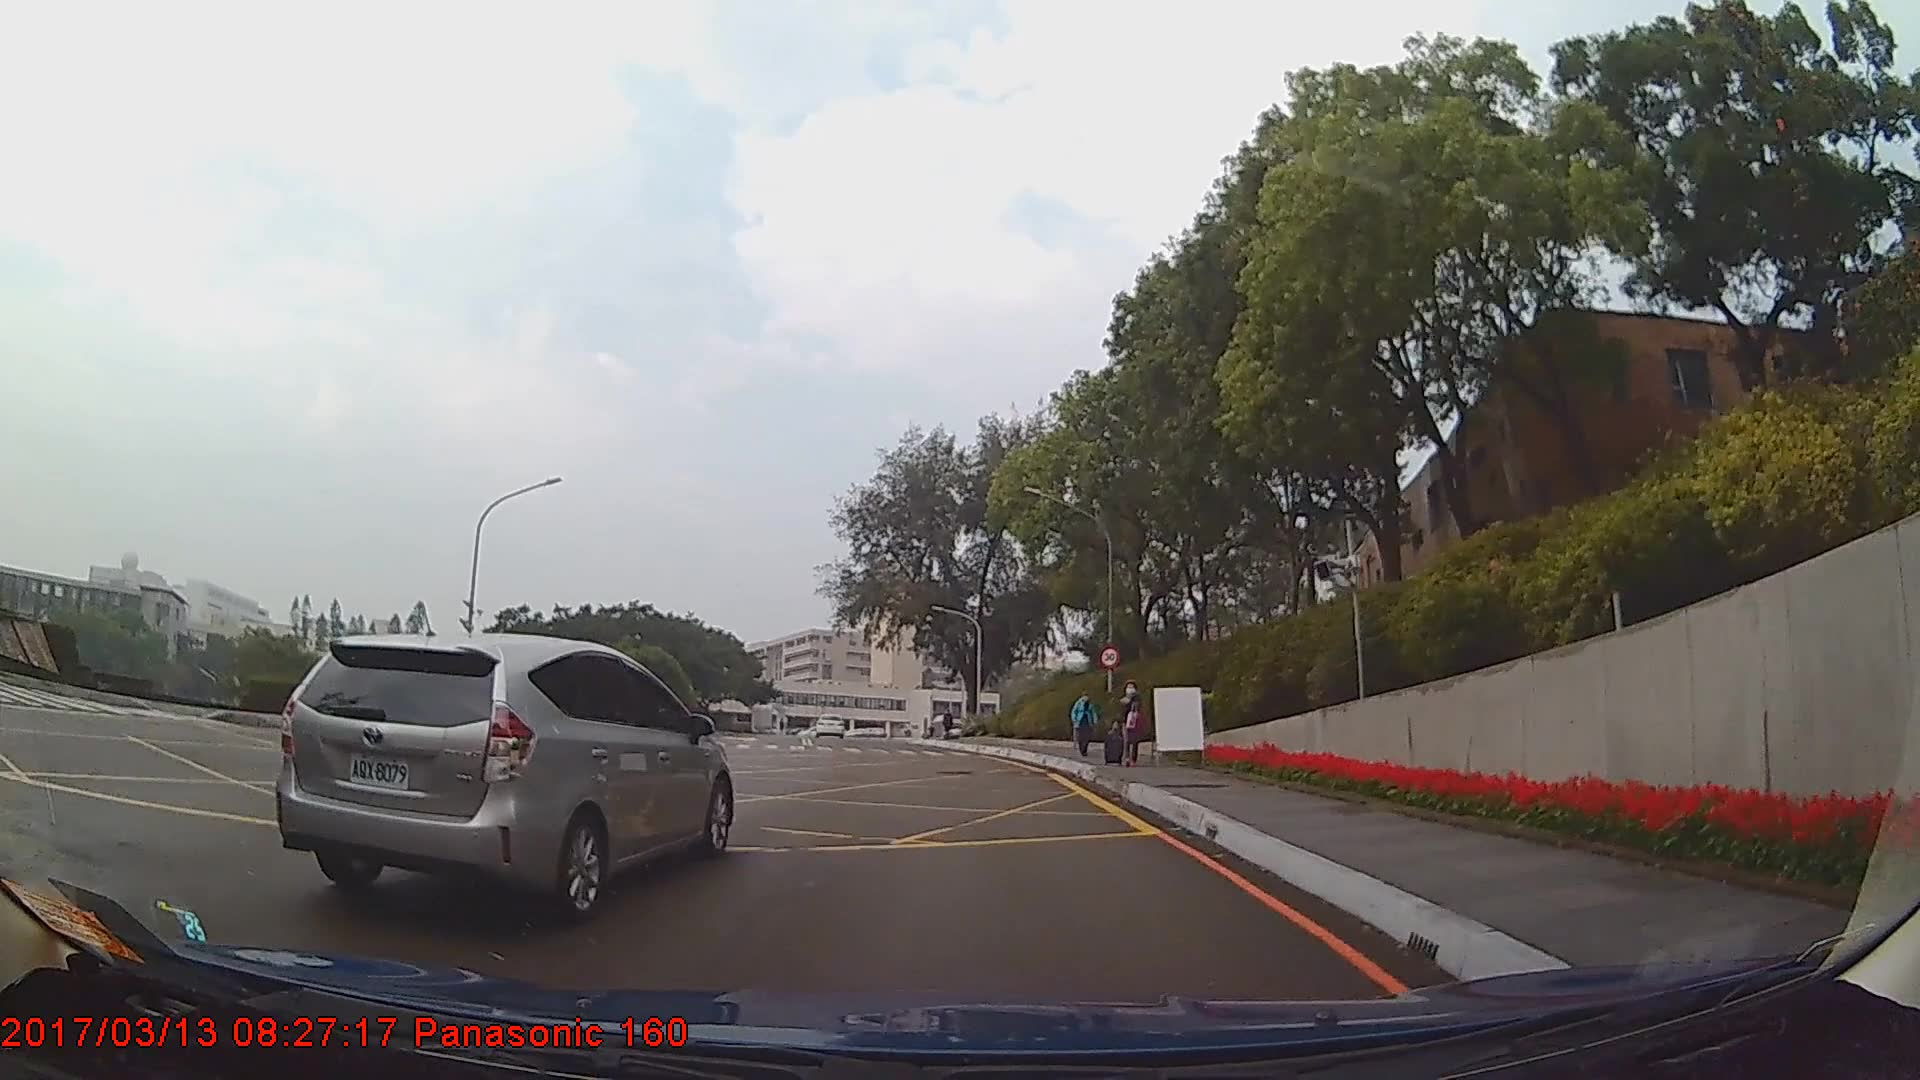pedestrian: (1105, 684, 1146, 769), (1069, 692, 1097, 761)
vehicle: (271, 630, 738, 924), (812, 711, 846, 738)
